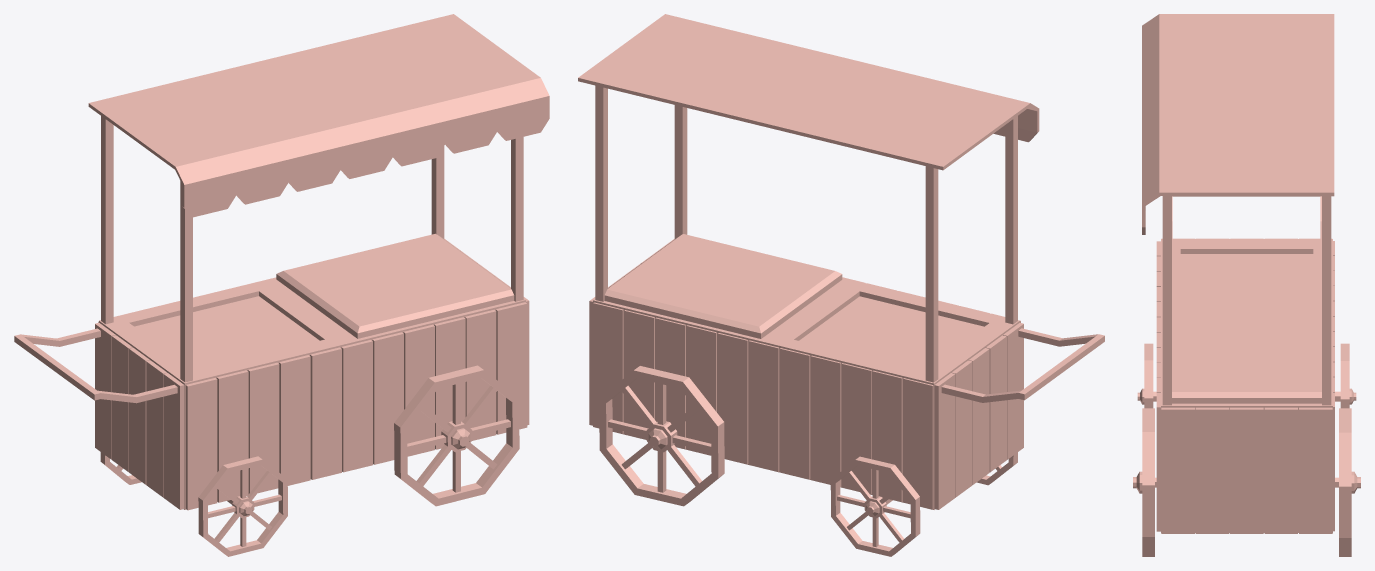
The model's file is Mega_Asset_s_Pack_Cube_035.FBX.
3 renders of one model, left to right at view 1: azimuth 30°, elevation 25°; view 2: azimuth 150°, elevation 25°; view 3: azimuth 270°, elevation 25°, orthographic.
Visible parts, largest first — view 1: Mega_Asset_s_Pack_Cube_035; view 2: Mega_Asset_s_Pack_Cube_035; view 3: Mega_Asset_s_Pack_Cube_035.
Boxes of the visible parts, left/top/right/bottom form: Mega_Asset_s_Pack_Cube_035: left=14, top=14, right=549, bottom=556; Mega_Asset_s_Pack_Cube_035: left=578, top=14, right=1104, bottom=556; Mega_Asset_s_Pack_Cube_035: left=1133, top=14, right=1360, bottom=556.
Size of what is drawn, in the model's own units: 465 by 206 by 396.
